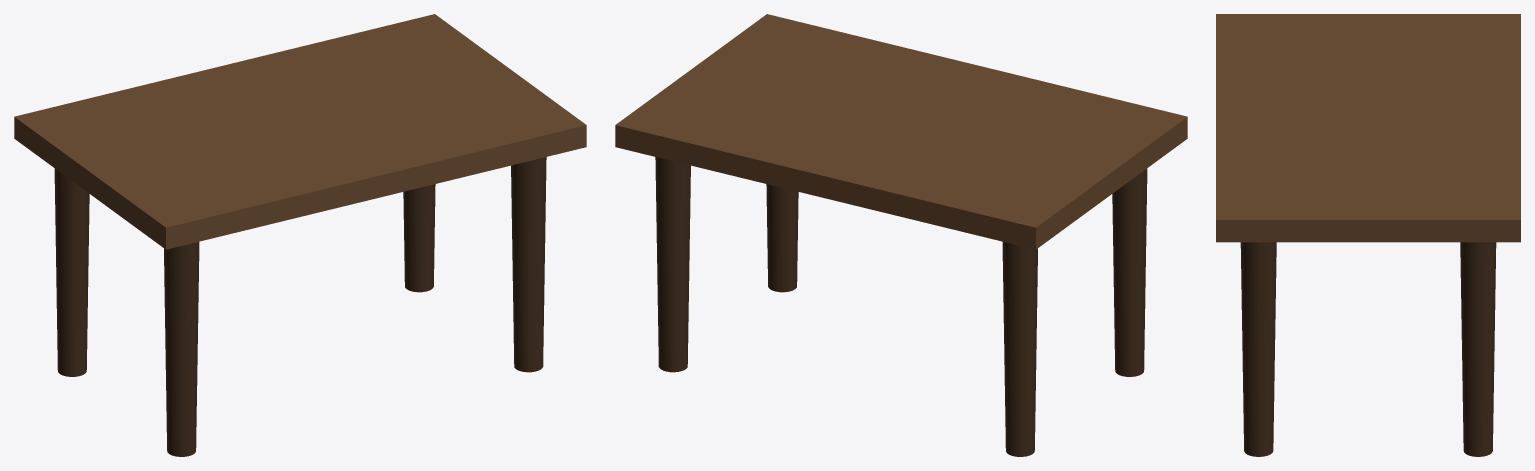
Rendered from table_coffee_s.glb.
3 renders of one model, left to right at view 1: azimuth 30°, elevation 25°; view 2: azimuth 150°, elevation 25°; view 3: azimuth 270°, elevation 25°, orthographic.
Visible parts, largest first — view 1: furniture; view 2: furniture; view 3: furniture.
Part boxes in pixels (<box>): furniture: <box>14,14,586,456</box>; furniture: <box>615,14,1187,456</box>; furniture: <box>1216,14,1520,456</box>.
Bounding box in the file's own units: 0.8 × 0.45 × 0.5.
